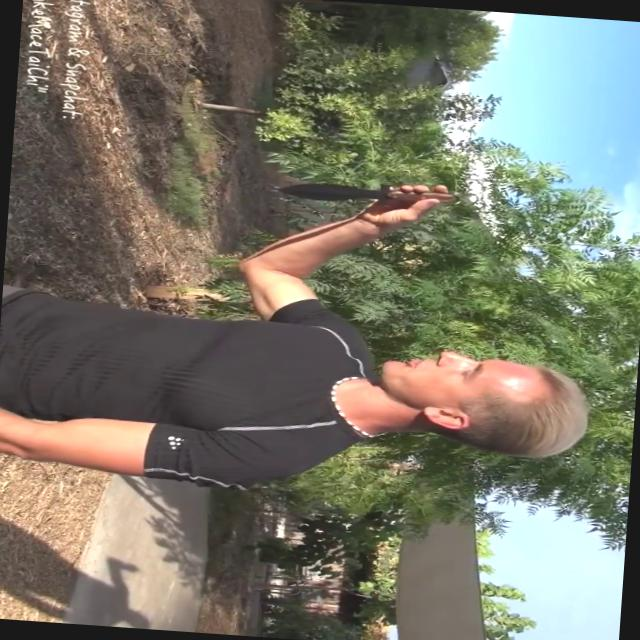knife: (266, 173, 470, 220)
